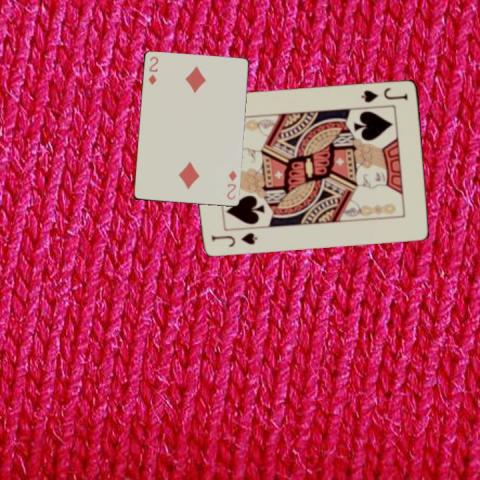2d: (224, 168, 238, 201), (146, 54, 160, 87)
Js: (358, 84, 409, 103), (209, 229, 259, 248)
